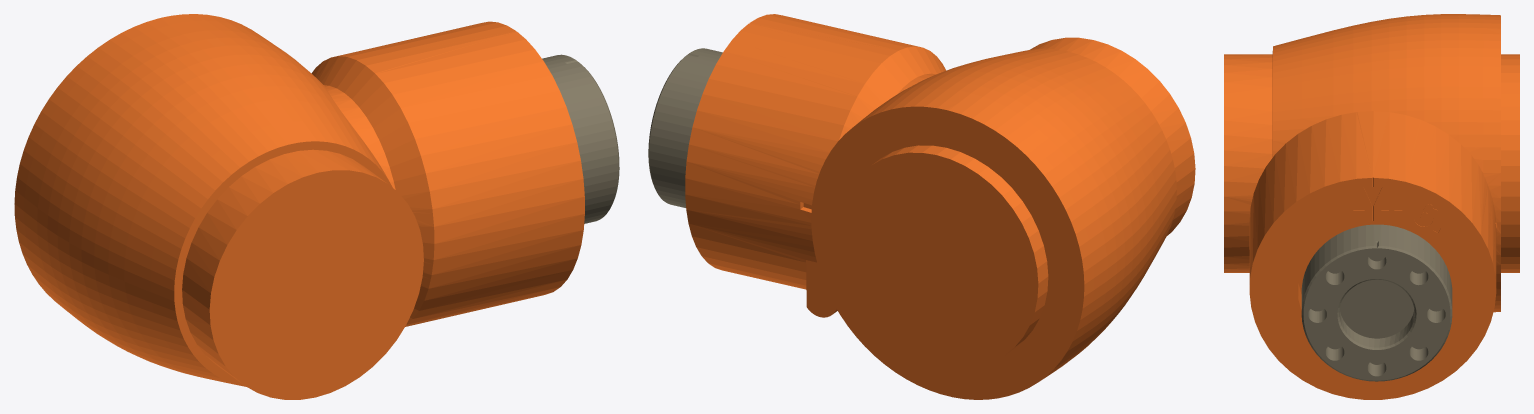
The model's file is head.dae.
The picture shows the model from 3 angles, left to right: view 1: azimuth 30°, elevation 25°; view 2: azimuth 150°, elevation 25°; view 3: azimuth 270°, elevation 25°; orthographic projection. The views are drawn at different scales.
Visible parts, largest first — view 1: link_5, link_6; view 2: link_5, link_6; view 3: link_5, link_6.
Part boxes in pixels (bbox=[...]): link_5: bbox=[14, 14, 584, 399]; link_6: bbox=[542, 54, 619, 223]; link_5: bbox=[685, 14, 1195, 399]; link_6: bbox=[648, 48, 722, 207]; link_5: bbox=[1224, 14, 1519, 399]; link_6: bbox=[1301, 224, 1452, 381].
Bounding box in the file's own units: 1.34 × 0.785 × 0.7937.
